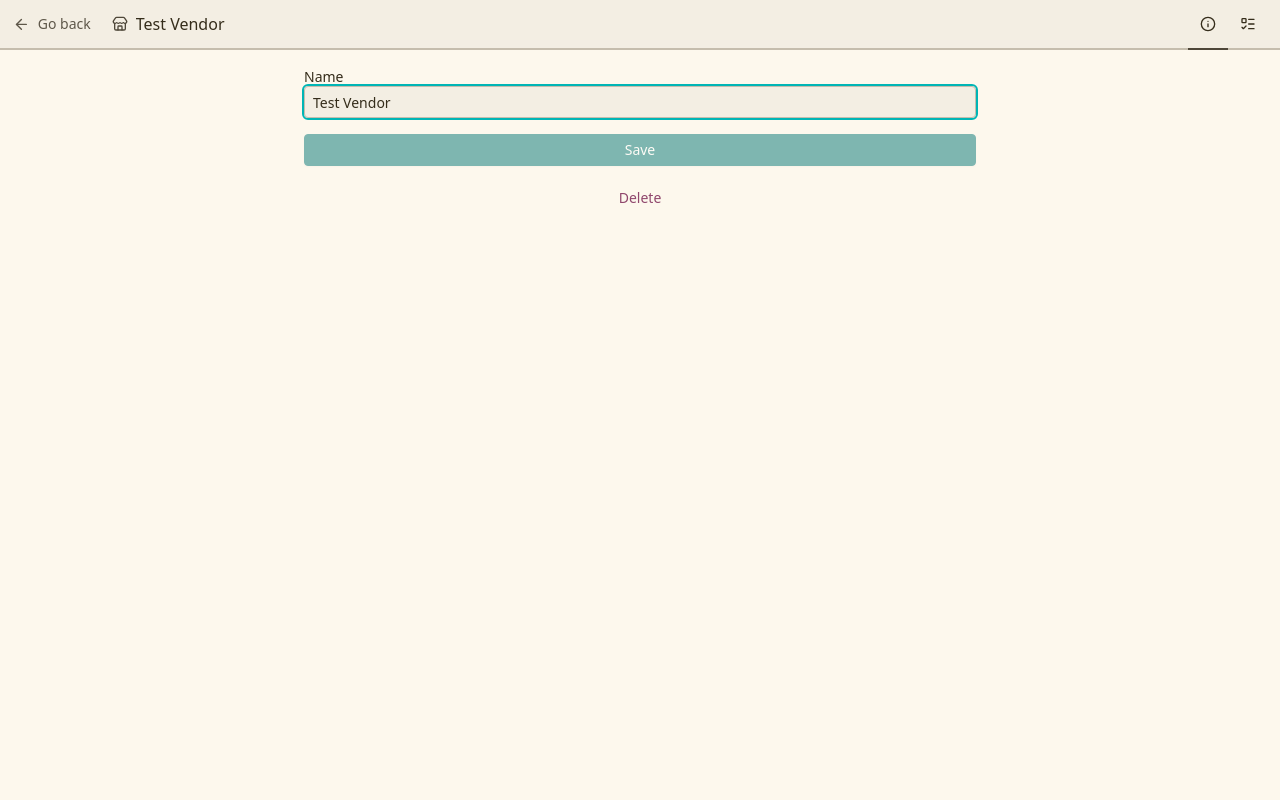
Test case: Vendor Detail - Info Tab › user does not see discard dialog after discarding and returning to Info tab
The image size is (1280, 800).
# When user edits name
Replace the text in the field labelled "Name" with "Changed Name": (640, 102) x1=304 y1=86 x2=976 y2=118
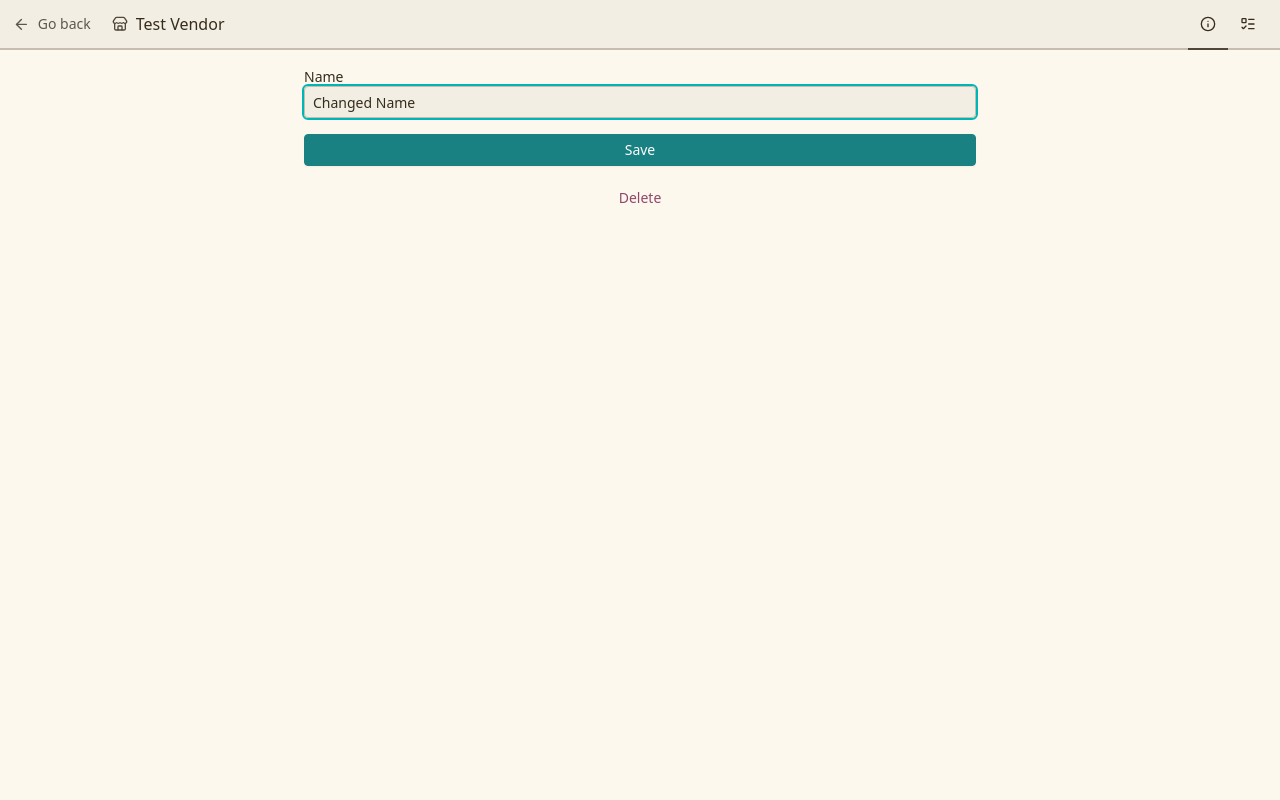
Click the link named "Vendor items tab": (1248, 25) x1=1228 y1=0 x2=1268 y2=50
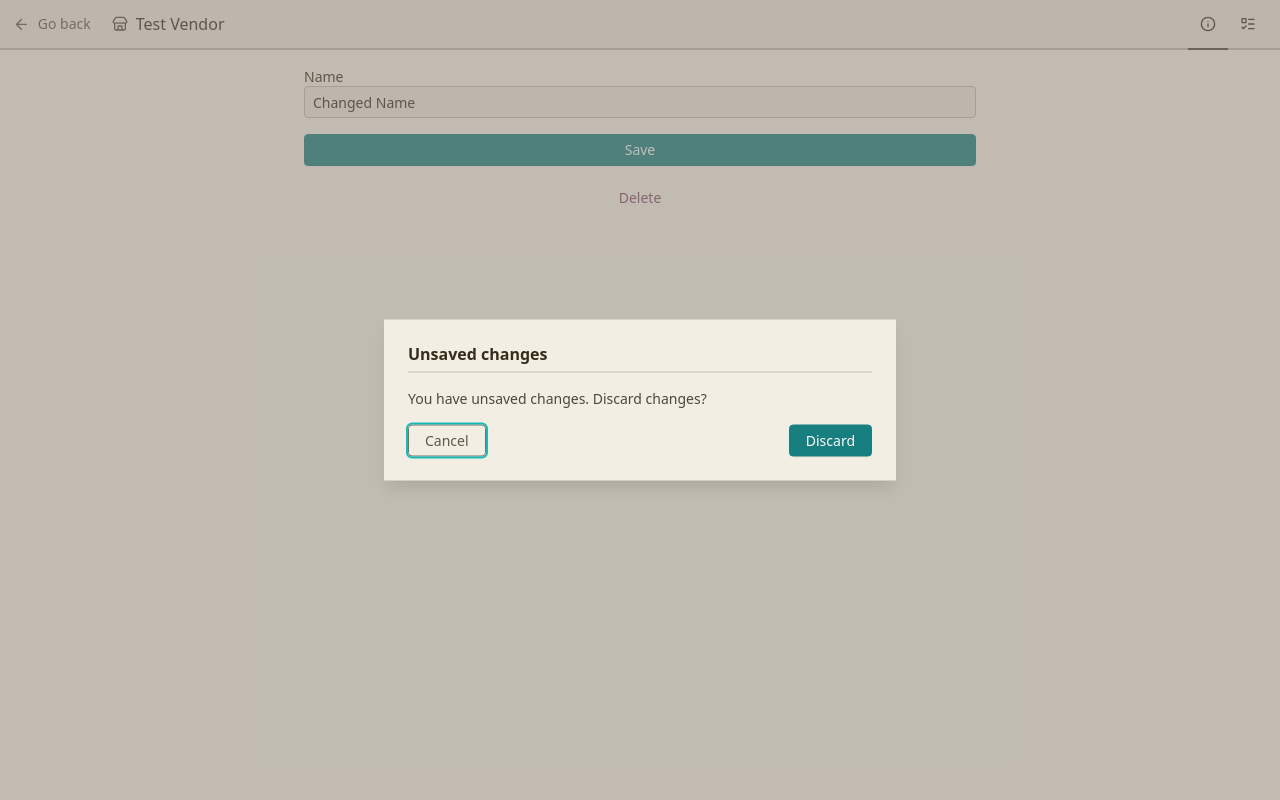
Expected: the heading "Unsaved changes" is shown, x1=408 y1=342 x2=548 y2=364
Click the button "Discard": (830, 440) x1=789 y1=424 x2=872 y2=456
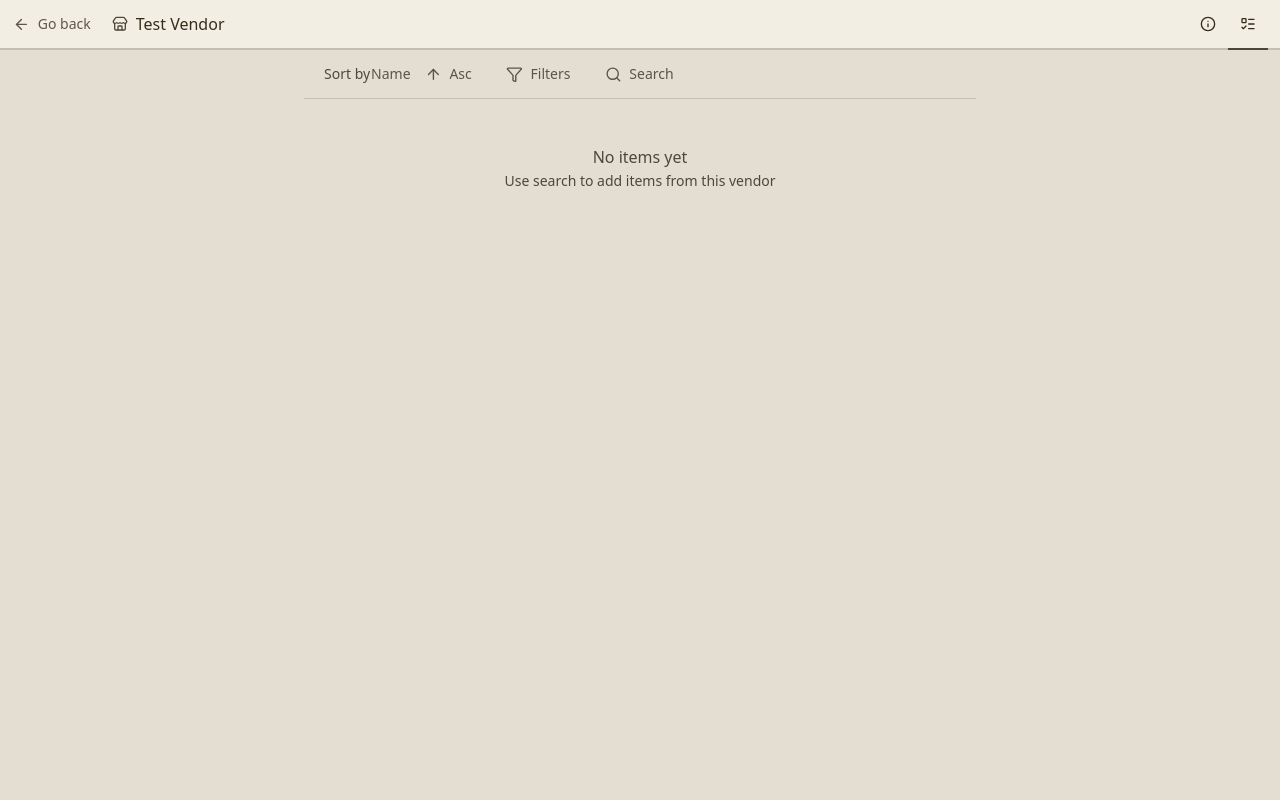
Expected: the button with aria-label "toggle filters" is shown, x1=493 y1=58 x2=584 y2=90
Click the link named "Vendor info tab": (1208, 25) x1=1188 y1=0 x2=1228 y2=50
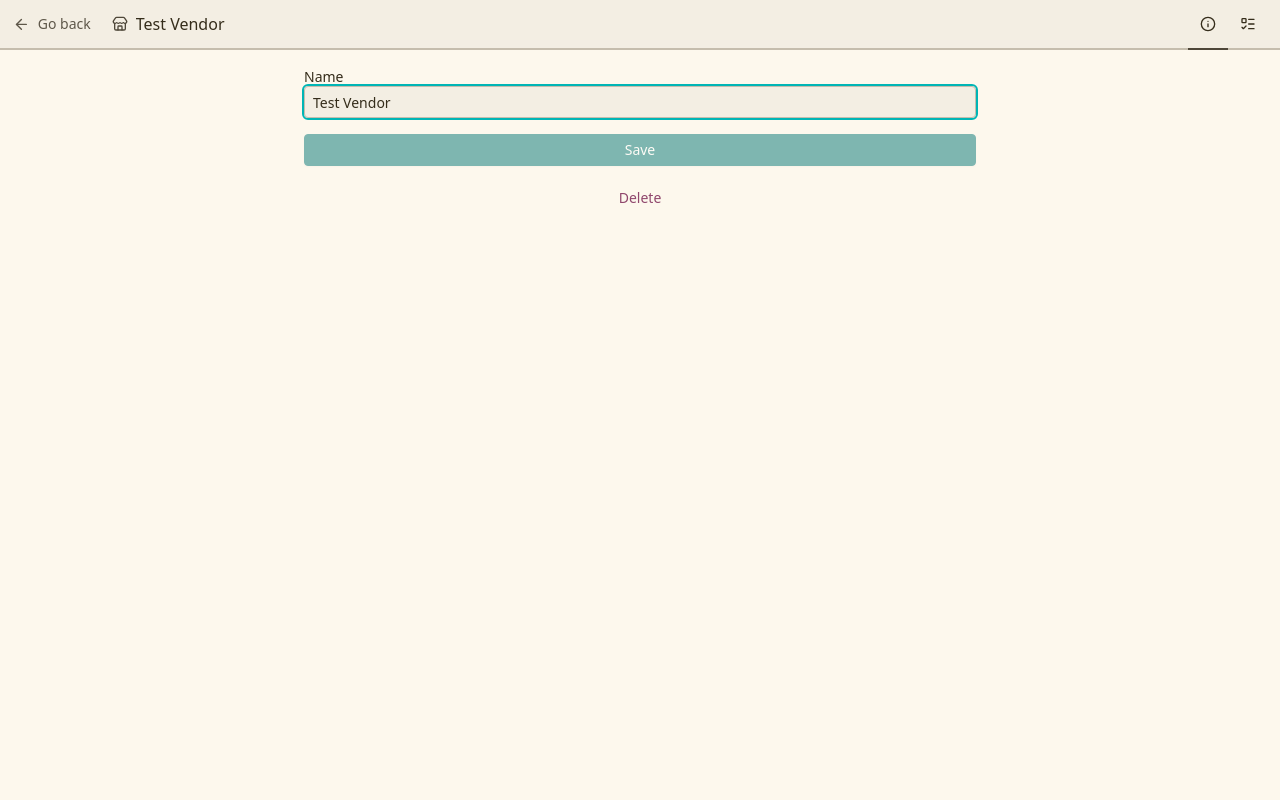
Expected: the heading "Unsaved changes" is not shown
Expected: the field labelled "Name" holds "Test Vendor", x1=304 y1=86 x2=976 y2=118
